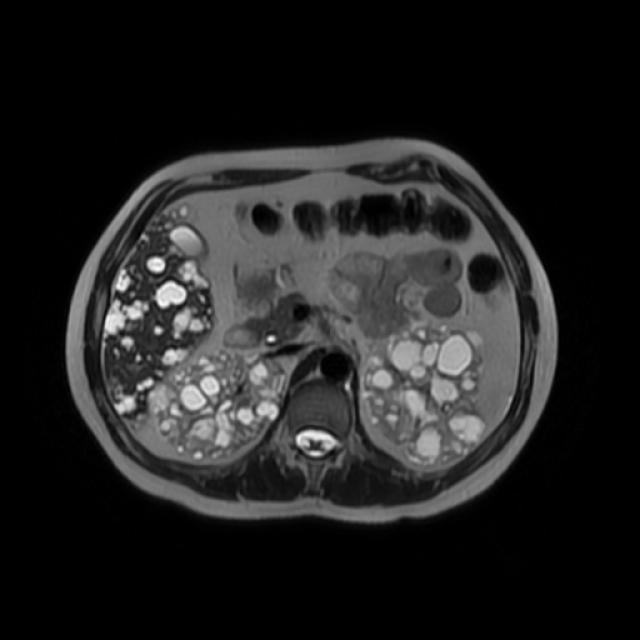sag: (147, 346, 287, 461)
sol: (361, 319, 489, 466)
